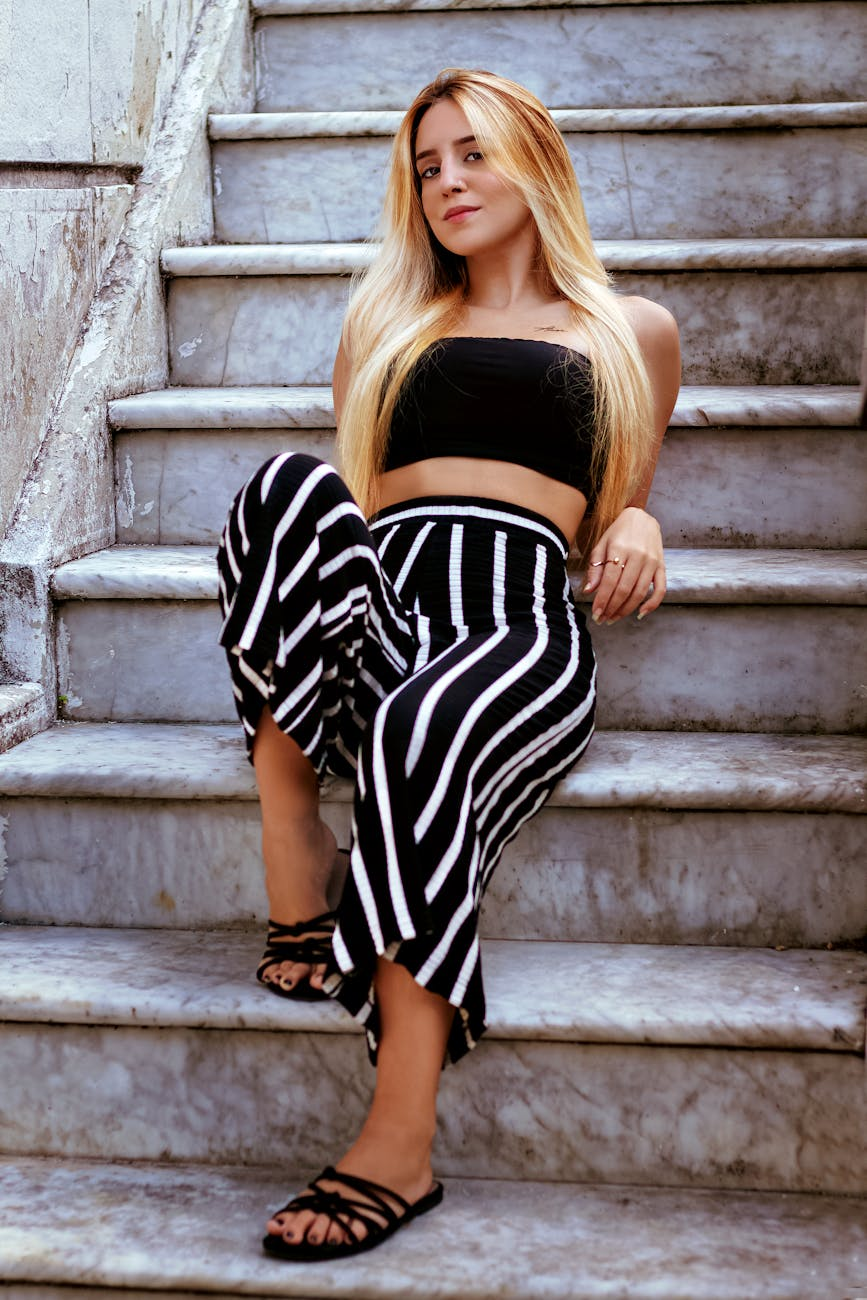crop_top: (355, 291, 656, 495)
opened_foot: (254, 1154, 453, 1266), (248, 846, 358, 1001)
